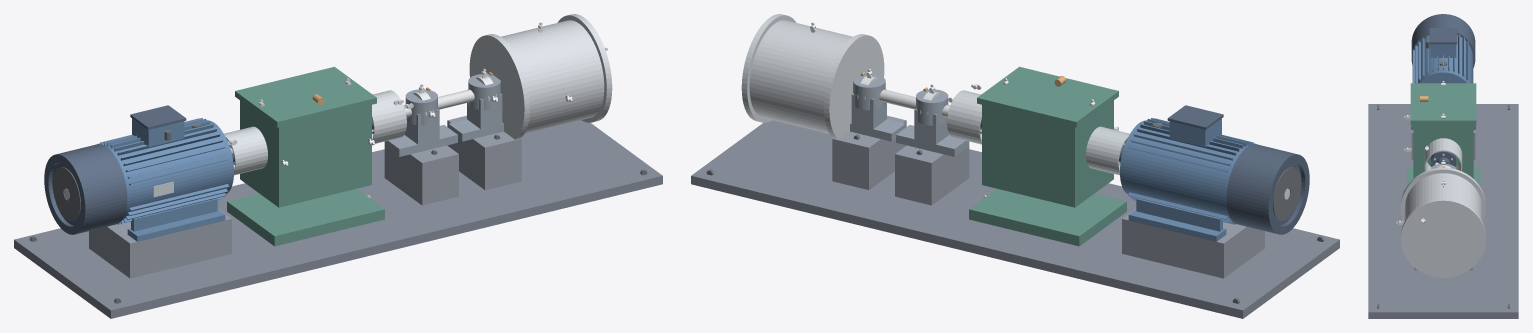
The model's file is machine-train.glb.
3 views of the same model, side by side, from view 1: azimuth 30°, elevation 25°; view 2: azimuth 150°, elevation 25°; view 3: azimuth 270°, elevation 25° (orthographic). The views are drawn at different scales.
Parts seen in each view (by area): view 1: PART_001, CASING_GBHOUSING_051, CASING_DRUM_101, CASING_GBFOOT_053, PART_022, CASING_MOTORBODY_006, CASING_SPLITLINE_052, CASING_FINS_009, CASING_COWL_010, PART_085, CASING_DRUM_102, PART_096 (+16 smaller); view 2: PART_001, CASING_GBHOUSING_051, CASING_DRUM_101, CASING_MOTORBODY_006, CASING_GBFOOT_053, PART_022, CASING_SPLITLINE_052, CASING_COWL_010, PART_085, CASING_DRUM_102, PART_096, CASING_FINS_009 (+16 smaller); view 3: PART_001, CASING_DRUM_103, CASING_SPLITLINE_052, CASING_DRUM_101, CASING_GBHOUSING_051, CASING_FINS_009, CASING_COWL_010, CASING_MOTORBODY_006, CASING_DRUM_102, CASING_GUARD_077, PART_014, CASING_ENDBELL_007 (+5 smaller).
Boxes of the visible parts, x1,y1,x2,y2 form: PART_001: [14, 120, 662, 318]; CASING_GBHOUSING_051: [240, 100, 371, 207]; CASING_DRUM_101: [501, 20, 604, 133]; CASING_GBFOOT_053: [227, 188, 384, 246]; PART_022: [89, 208, 231, 278]; CASING_MOTORBODY_006: [105, 120, 232, 219]; CASING_SPLITLINE_052: [235, 66, 376, 127]; CASING_FINS_009: [97, 118, 229, 224]; CASING_COWL_010: [52, 144, 127, 233]; PART_085: [384, 141, 458, 205]; CASING_DRUM_102: [469, 34, 529, 139]; PART_096: [447, 115, 521, 189]; PART_001: [691, 120, 1339, 318]; CASING_GBHOUSING_051: [982, 100, 1113, 207]; CASING_DRUM_101: [749, 20, 852, 133]; CASING_MOTORBODY_006: [1120, 120, 1248, 219]; CASING_GBFOOT_053: [969, 188, 1126, 246]; PART_022: [1122, 208, 1264, 278]; CASING_SPLITLINE_052: [977, 66, 1118, 127]; CASING_COWL_010: [1226, 144, 1301, 233]; PART_085: [895, 141, 969, 205]; CASING_DRUM_102: [824, 34, 884, 139]; PART_096: [832, 115, 906, 189]; CASING_FINS_009: [1128, 118, 1256, 224]; PART_001: [1368, 104, 1518, 318]; CASING_DRUM_103: [1401, 198, 1485, 277]; CASING_SPLITLINE_052: [1410, 83, 1476, 125]; CASING_DRUM_101: [1404, 173, 1482, 220]; CASING_GBHOUSING_051: [1413, 125, 1473, 178]; CASING_FINS_009: [1412, 34, 1468, 83]; CASING_COWL_010: [1411, 15, 1475, 67]; CASING_MOTORBODY_006: [1417, 35, 1473, 83]; CASING_DRUM_102: [1401, 167, 1485, 222]; CASING_GUARD_077: [1424, 138, 1462, 171]; PART_014: [1429, 28, 1457, 44]; CASING_ENDBELL_007: [1420, 69, 1468, 83].
Size of the model in its own units: 5.1 by 1.27 by 1.55.
